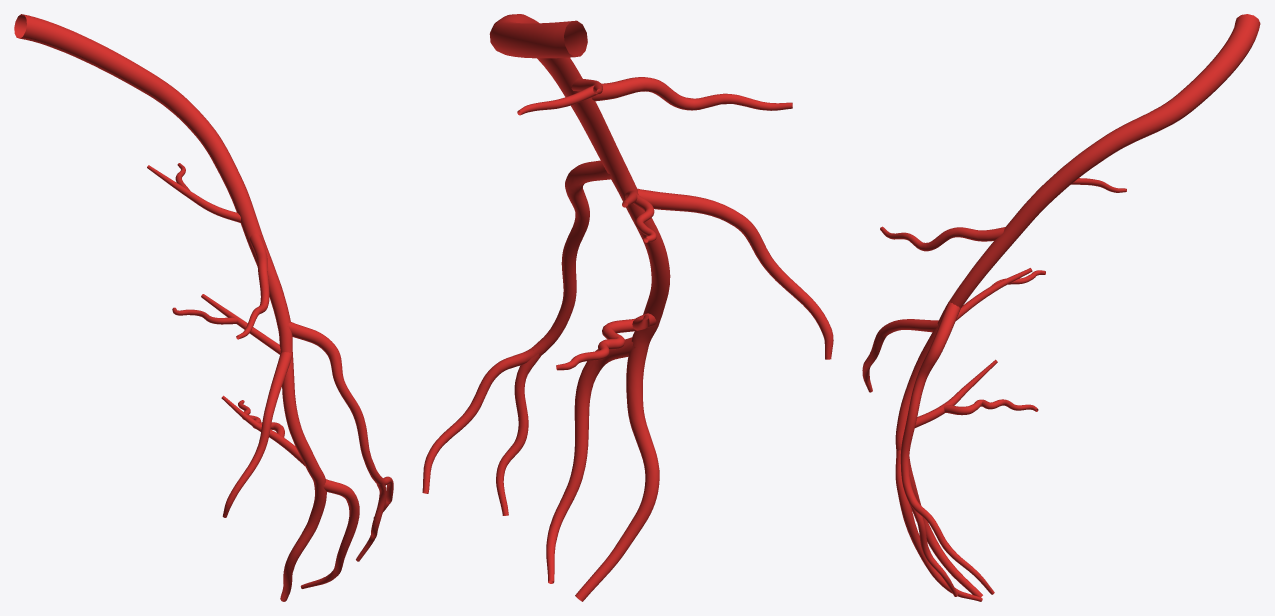
File: circulatorio-anterior-interventricular-artery.glb
The picture shows the model from 3 angles, left to right: view 1: azimuth 30°, elevation 25°; view 2: azimuth 150°, elevation 25°; view 3: azimuth 270°, elevation 25°; orthographic projection. The views are drawn at different scales.
Parts seen in each view (by area): view 1: Anterior interventricular artery, Septal branches of anterior interventricular artery; view 2: Anterior interventricular artery, Septal branches of anterior interventricular artery; view 3: Anterior interventricular artery, Septal branches of anterior interventricular artery.
Boxes of the visible parts, x1,y1,x2,y2 form: Anterior interventricular artery: (14,14,393,601); Septal branches of anterior interventricular artery: (147,163,304,465); Anterior interventricular artery: (422,14,833,601); Septal branches of anterior interventricular artery: (517,78,656,370); Anterior interventricular artery: (862,14,1260,601); Septal branches of anterior interventricular artery: (915,178,1126,427).
Size of the model in its own units: 0.0392 by 0.082 by 0.0565.
